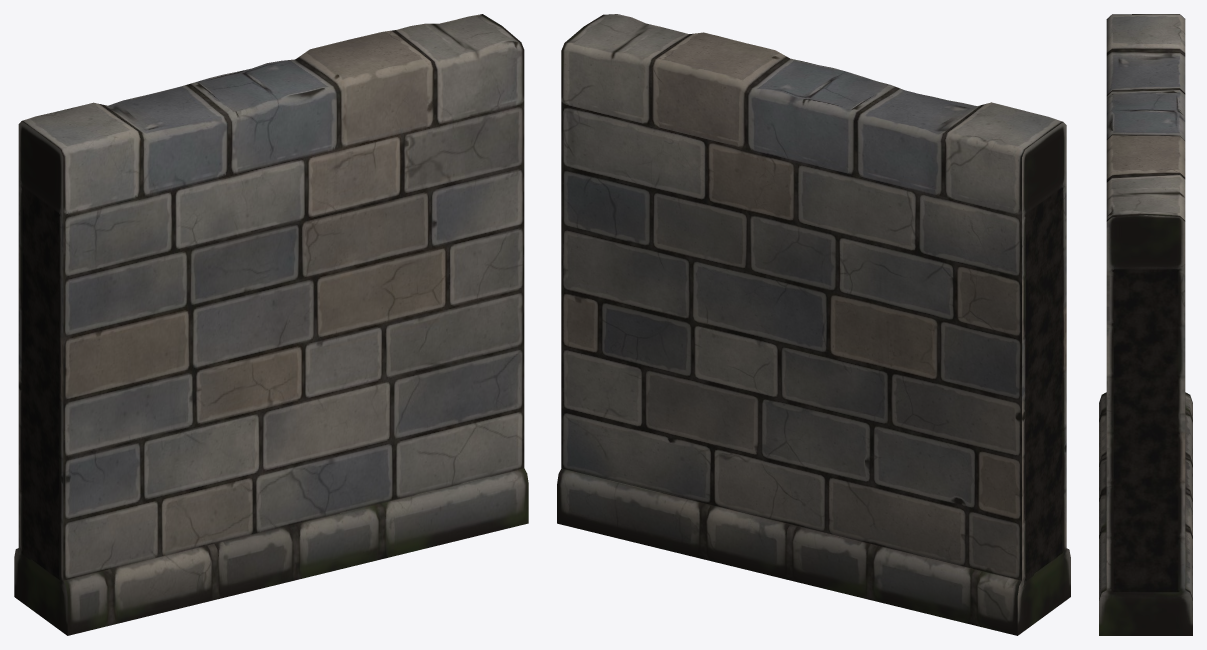
File: wall.glb
3 views of the same model, side by side, from view 1: azimuth 30°, elevation 25°; view 2: azimuth 150°, elevation 25°; view 3: azimuth 270°, elevation 25° (orthographic). The views are drawn at different scales.
Visible parts, largest first — view 1: wall; view 2: wall; view 3: wall.
Part boxes in pixels (x1,y1,x2,y2): wall: (14,14,528,635); wall: (557,14,1070,635); wall: (1099,14,1192,635).
Bounding box in the file's own units: 4 × 4 × 0.8.
1 material, 1 textured.
